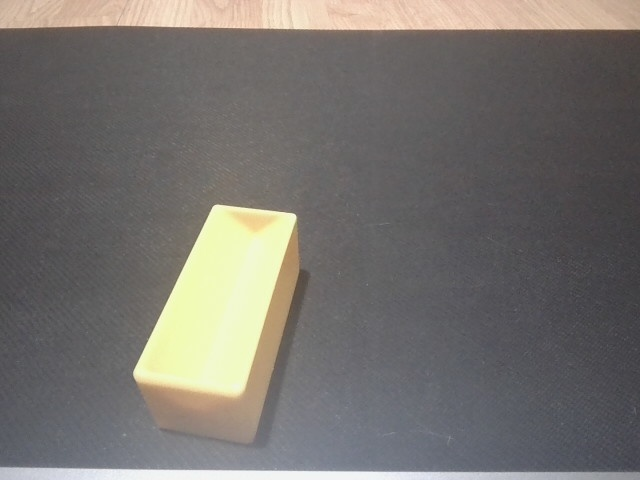YellowSample: (127, 196, 305, 449)
